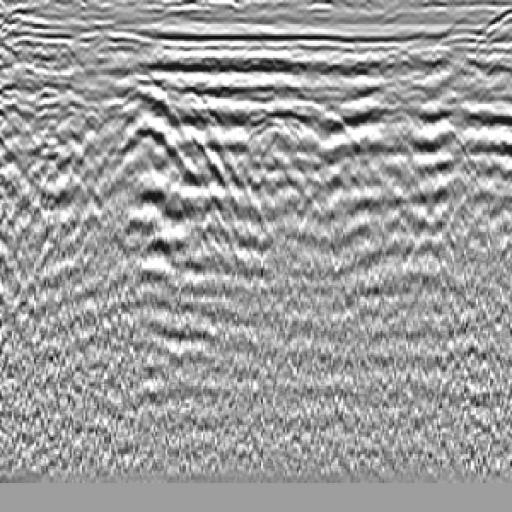metalic: (108, 74, 191, 157)
